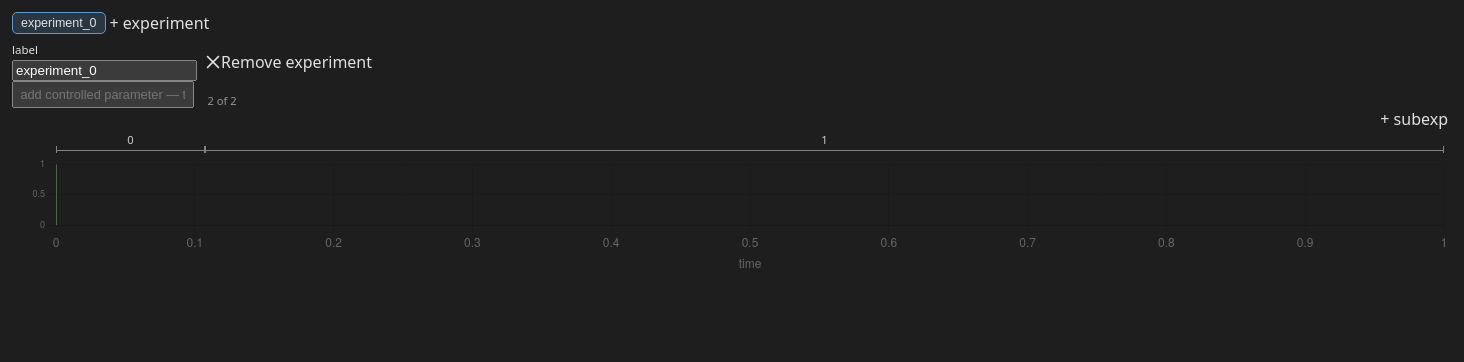
Test: ProtocolInfoEditor › drops a parameter from the candidates once it is controlled
The width and height of the screenshot is (1464, 362).
Type "a/x" into the field with test id "param-search".
click(103, 94); type("a/x")  # box [12,81,194,108]
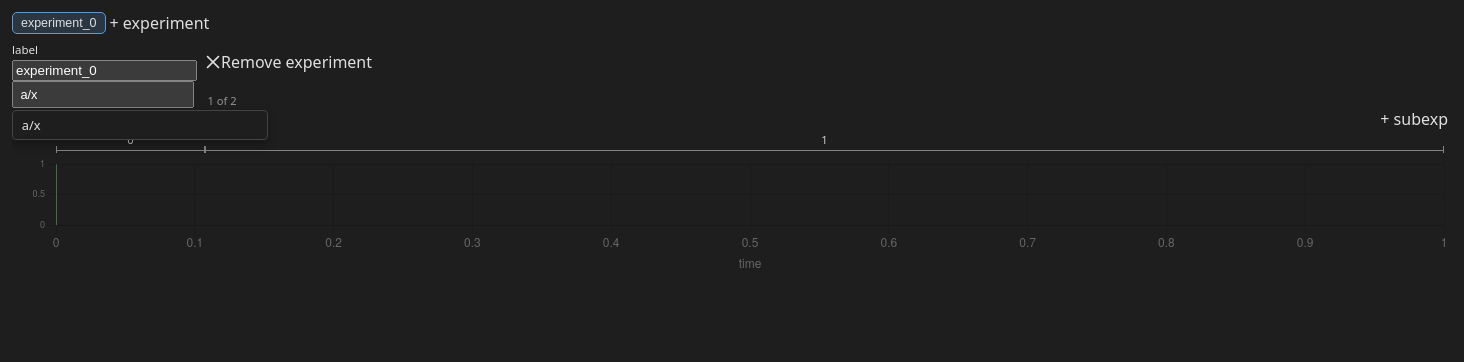
Press the mouse on the list item with test id "param-option" at (31, 125), box [22,116,40,134]
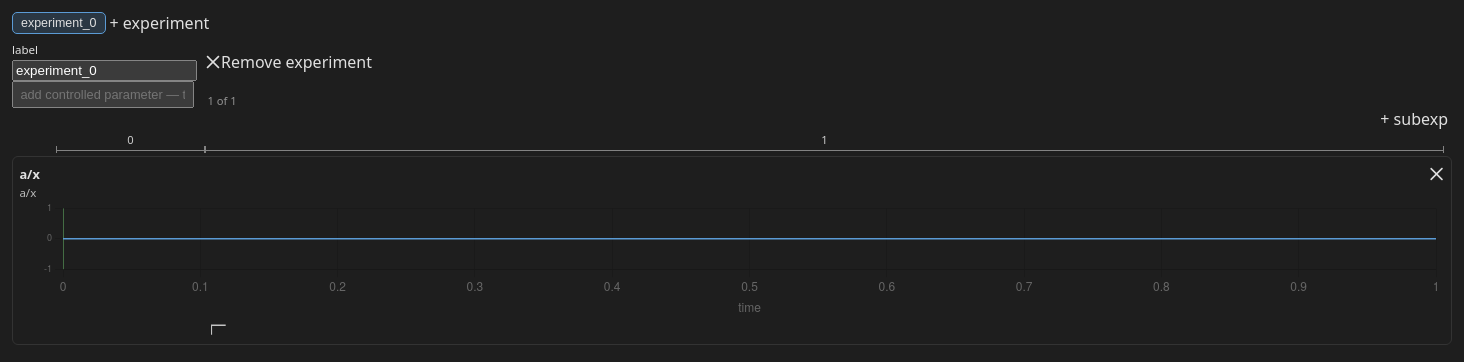
Type "a/" into the field with test id "param-search".
click(103, 94); type("a/")  # box [12,81,194,108]
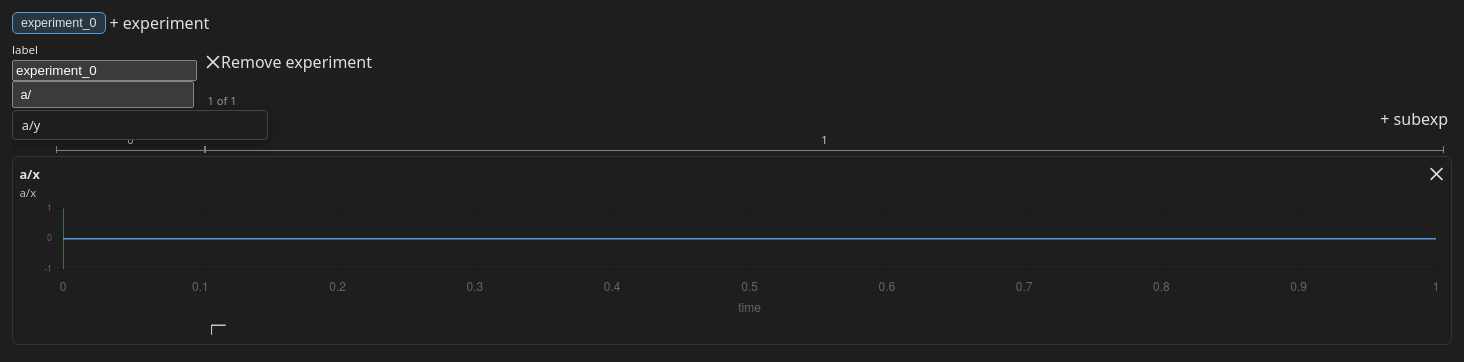
Now the elements with test id "param-option" read "a/y", in this order, box [22,116,40,134]
